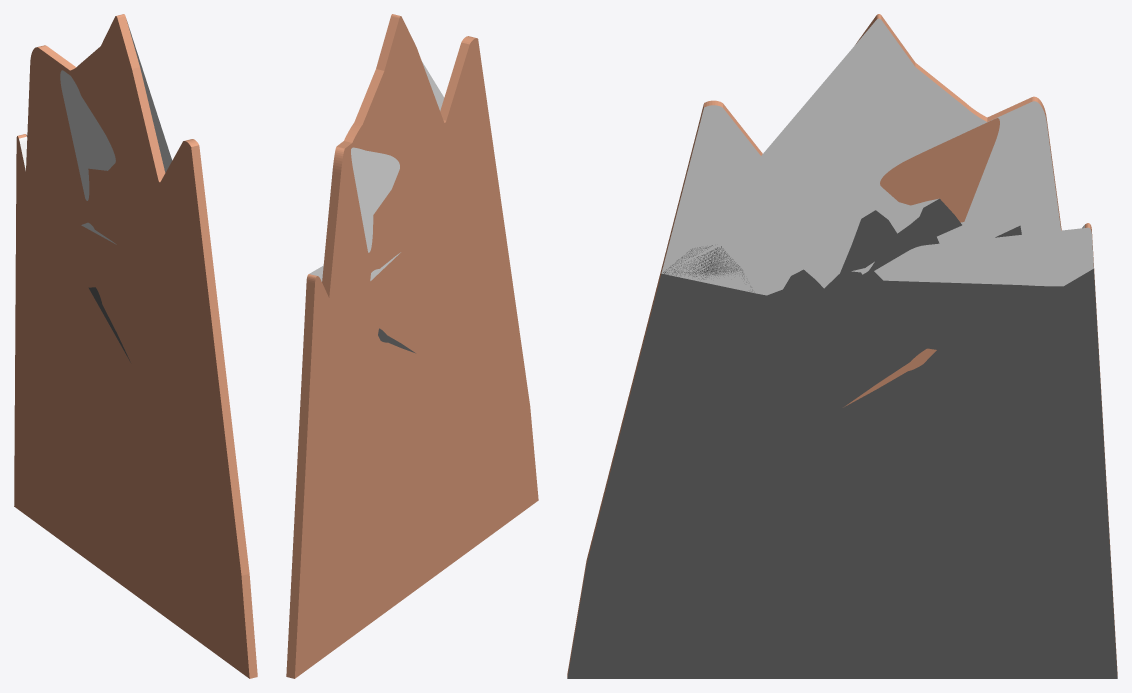
Rendered from CartoonMountain.fbx.
3 renders of one model, left to right at view 1: azimuth 30°, elevation 25°; view 2: azimuth 150°, elevation 25°; view 3: azimuth 270°, elevation 25°, orthographic. The views are drawn at different scales.
Parts seen in each view (by area): view 1: Cube; view 2: Cube; view 3: Cube.
Part boxes in pixels (left/top/right/bottom): Cube: left=14, top=14, right=257, bottom=678; Cube: left=286, top=14, right=538, bottom=678; Cube: left=567, top=14, right=1117, bottom=678.
Bounding box in the file's own units: 142 × 3345 × 2527.
